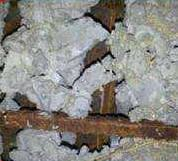Exposed reinforcement: (1, 109, 178, 140), (75, 79, 118, 155), (72, 1, 127, 35), (78, 38, 117, 76), (1, 1, 22, 44)
